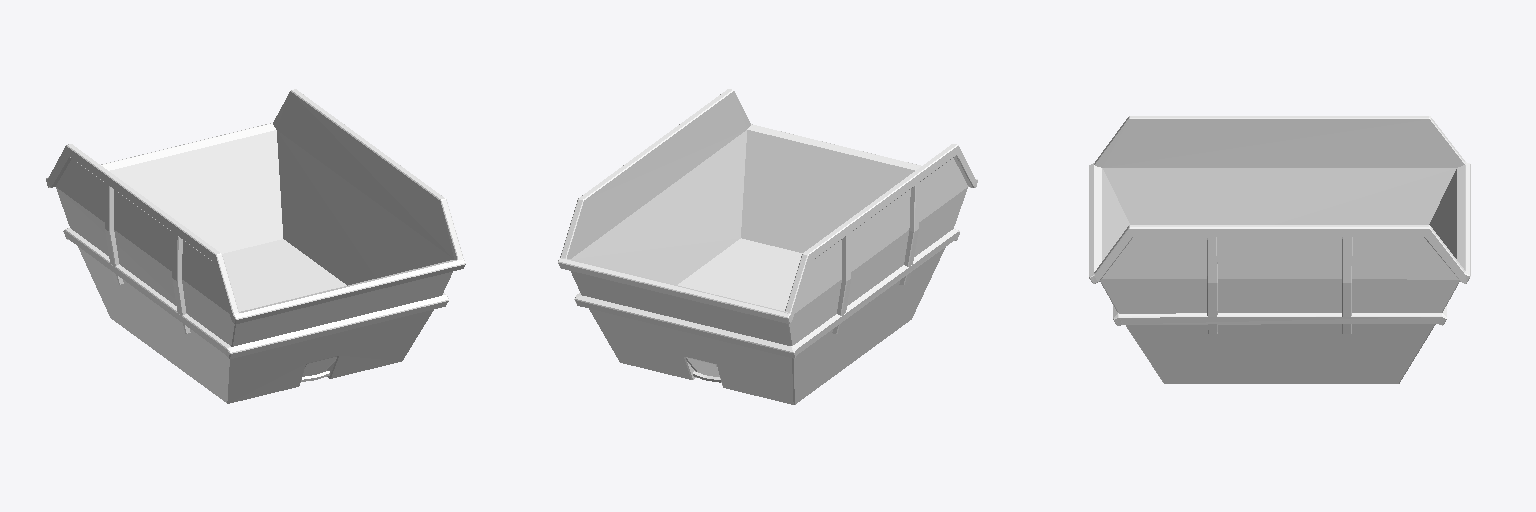
File: Dumpster.obj
The picture shows the model from 3 angles: view 1: azimuth 30°, elevation 25°; view 2: azimuth 150°, elevation 25°; view 3: azimuth 270°, elevation 25°; orthographic projection.
Bounding box in the file's own units: 286 × 200 × 410.